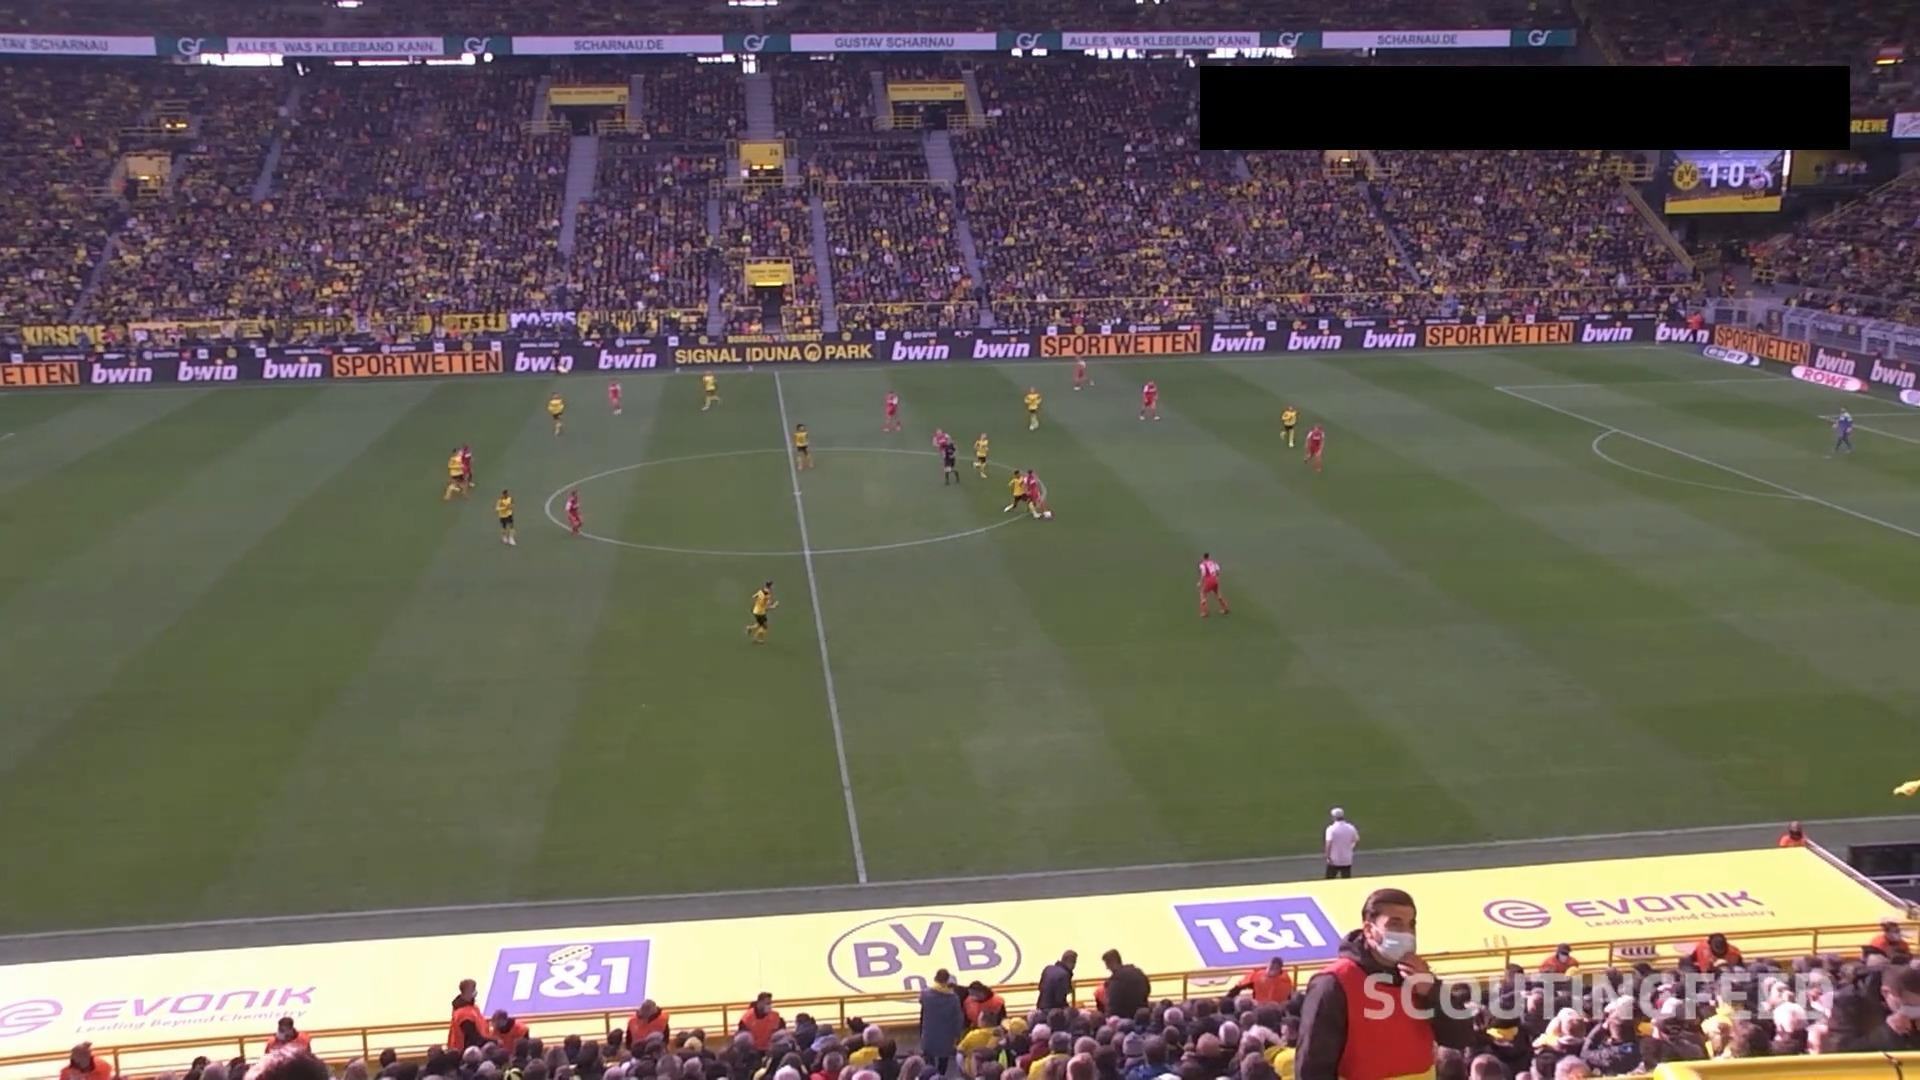coach: (1322, 806, 1359, 879)
fan: (1290, 887, 1469, 1077)
player: (1001, 467, 1053, 519), (1195, 551, 1229, 617), (745, 579, 778, 643), (442, 446, 469, 500), (493, 488, 516, 545), (1001, 468, 1028, 513), (1830, 406, 1854, 453), (1302, 422, 1324, 471), (791, 422, 812, 470), (931, 425, 955, 467), (1138, 378, 1160, 420), (881, 388, 902, 432), (971, 431, 990, 479), (564, 488, 583, 533), (1278, 403, 1297, 448), (1023, 385, 1041, 430), (700, 370, 720, 410), (546, 392, 564, 435), (458, 443, 475, 488), (1072, 354, 1091, 391), (607, 378, 622, 415)
referee: (936, 436, 962, 484), (549, 343, 564, 373)
